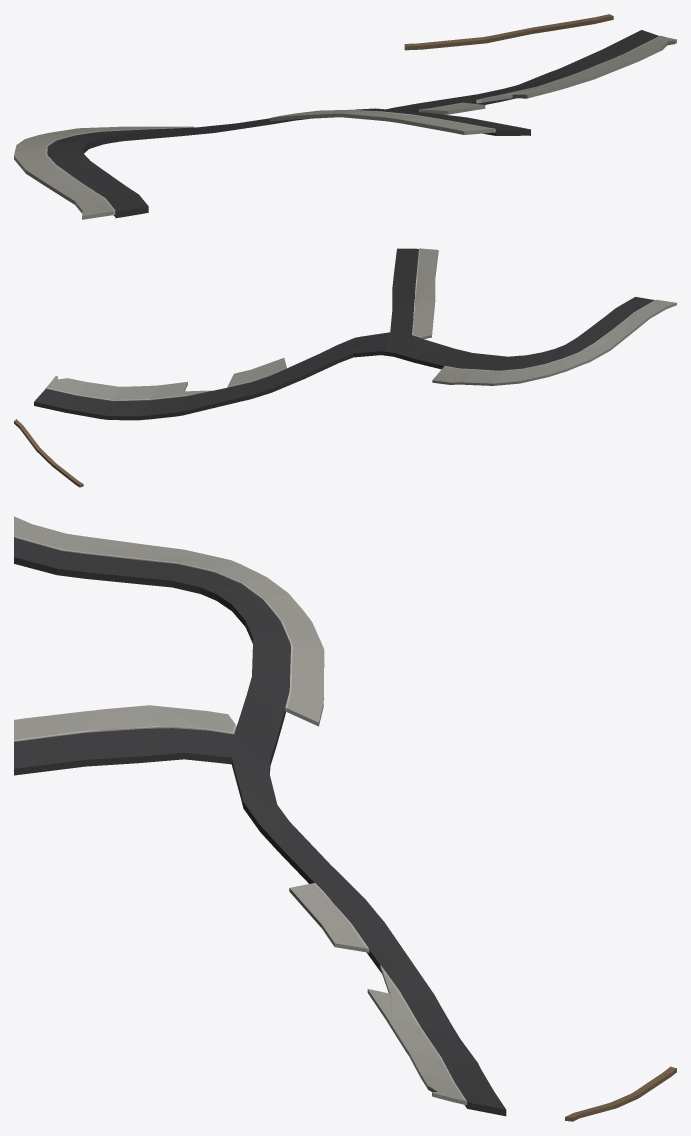
3 renders of one model, top to bottom at view 1: azimuth 30°, elevation 25°; view 2: azimuth 150°, elevation 25°; view 3: azimuth 270°, elevation 25°, orthographic. The views are drawn at different scales.
Size of the model in its own units: 157 by 41.45 by 108.
